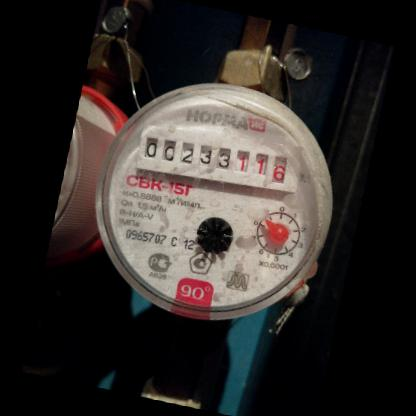digital_screen: (134, 121, 237, 182)
